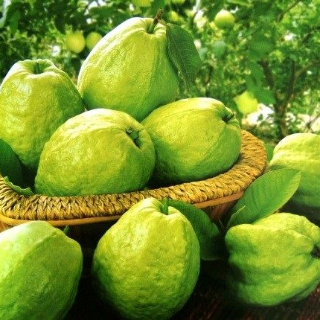oi: (92, 199, 201, 320), (221, 212, 320, 307)
